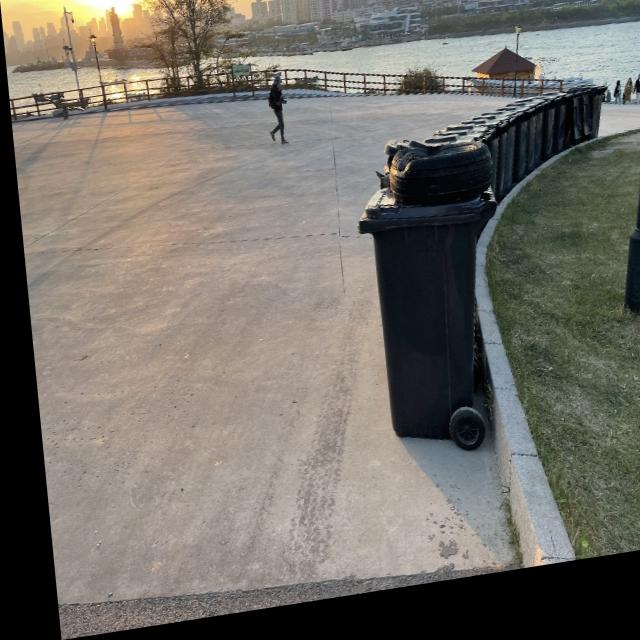overflow: (345, 140, 509, 459)
